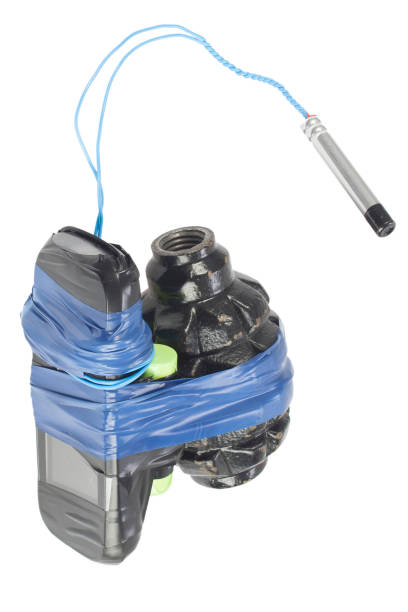e1: (135, 222, 297, 488)
